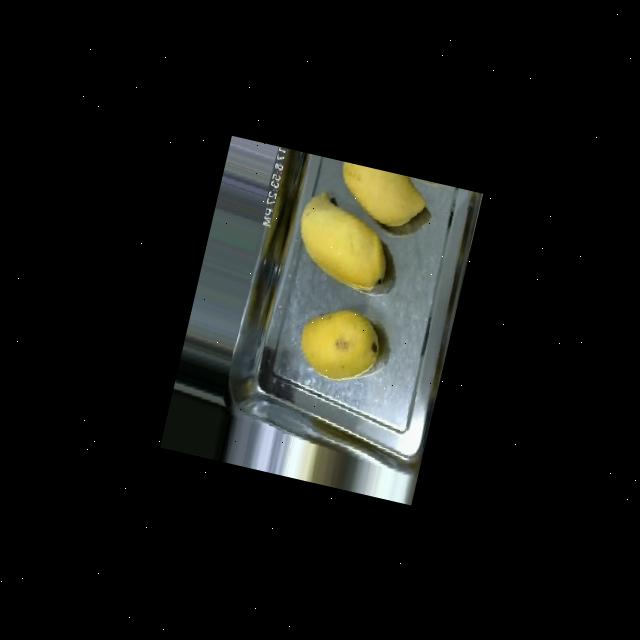Mango: (286, 186, 400, 294), (291, 300, 385, 388), (330, 160, 430, 232)
